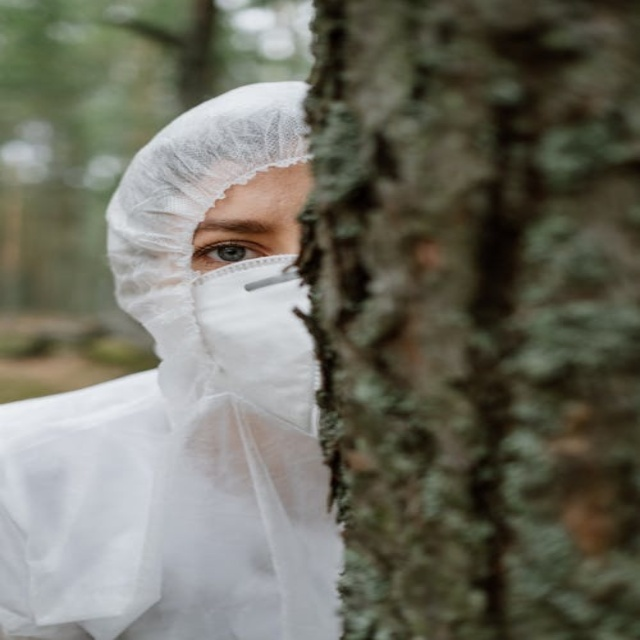Mascara: (168, 256, 326, 439)
Sin_gafas: (184, 214, 298, 262)
